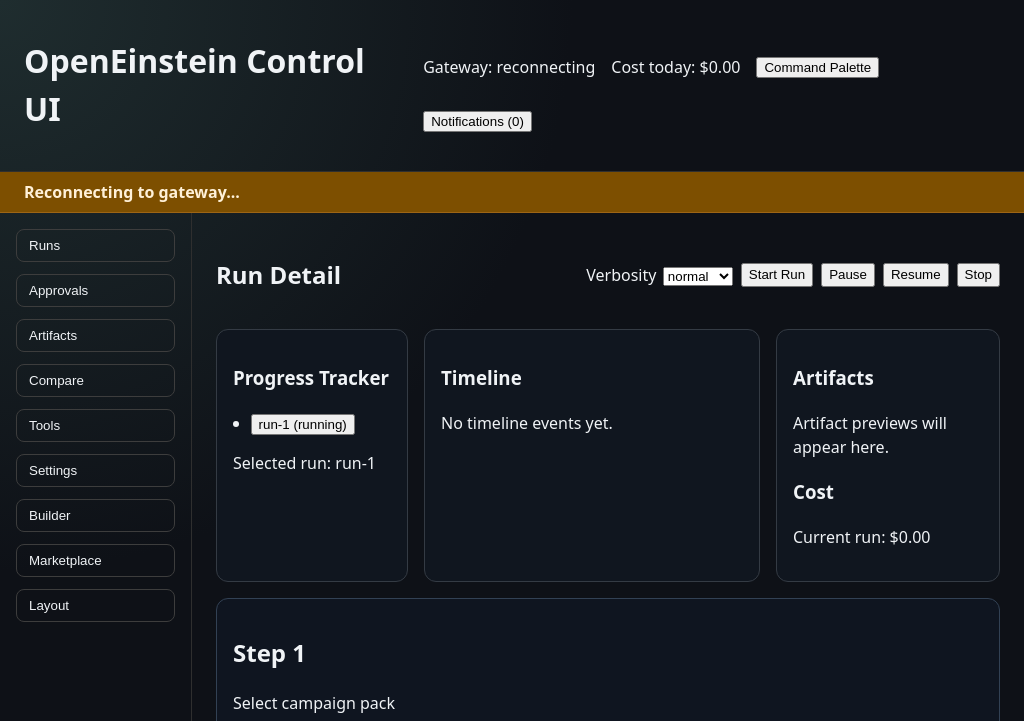
Test: App tools and settings wiring › loads tools route and executes test-connection + settings validation
Check: the heading "Run Detail" is shown, box [216, 257, 341, 293]
Step 1. Click the button "Tools" → (96, 425), box [16, 409, 175, 442]
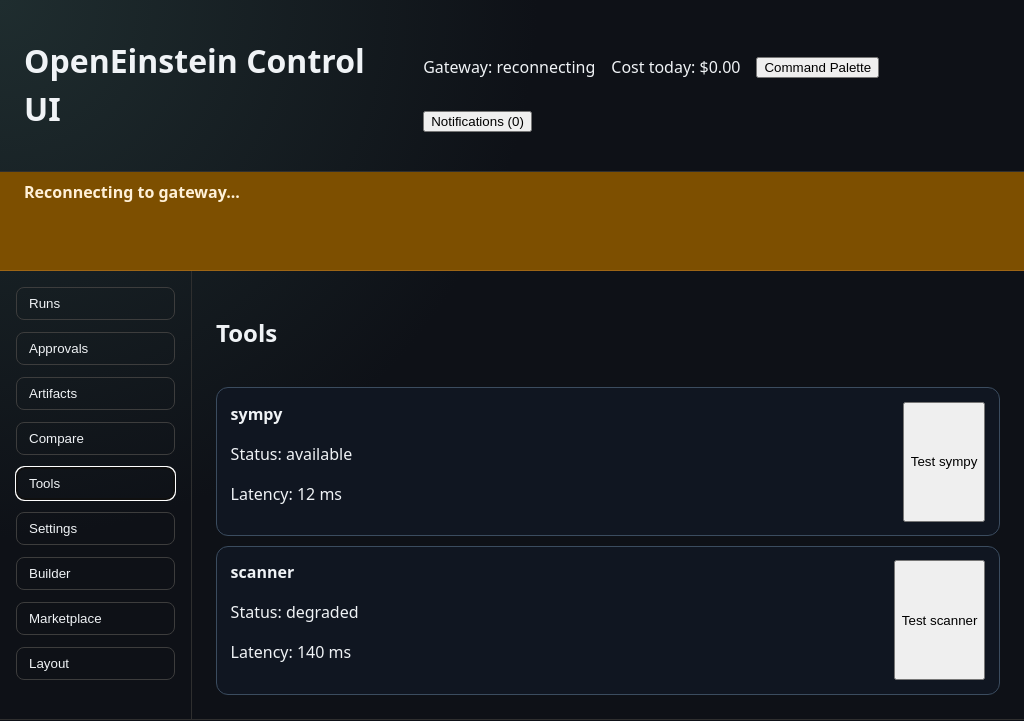
Check: the heading "Tools" is shown, box [216, 316, 277, 349]
Step 2. Click the button "Test sympy" → (944, 462), box [903, 402, 985, 522]
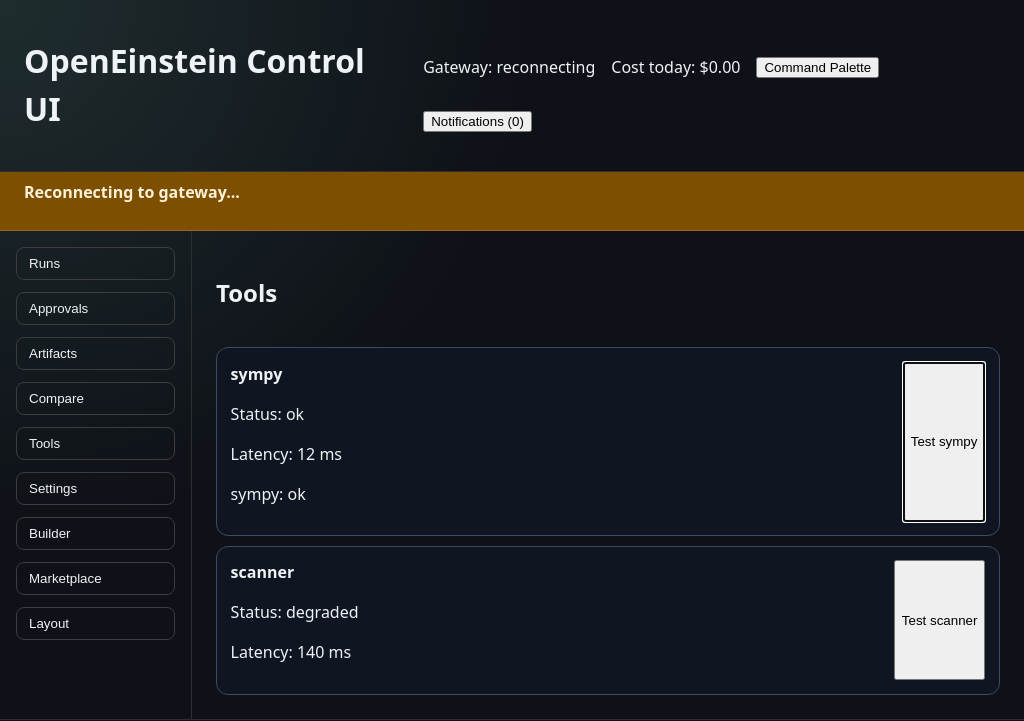
Check: the text "sympy: ok" is shown, box [231, 483, 306, 505]
Step 3. Click the button "Settings" → (96, 489), box [16, 472, 175, 505]
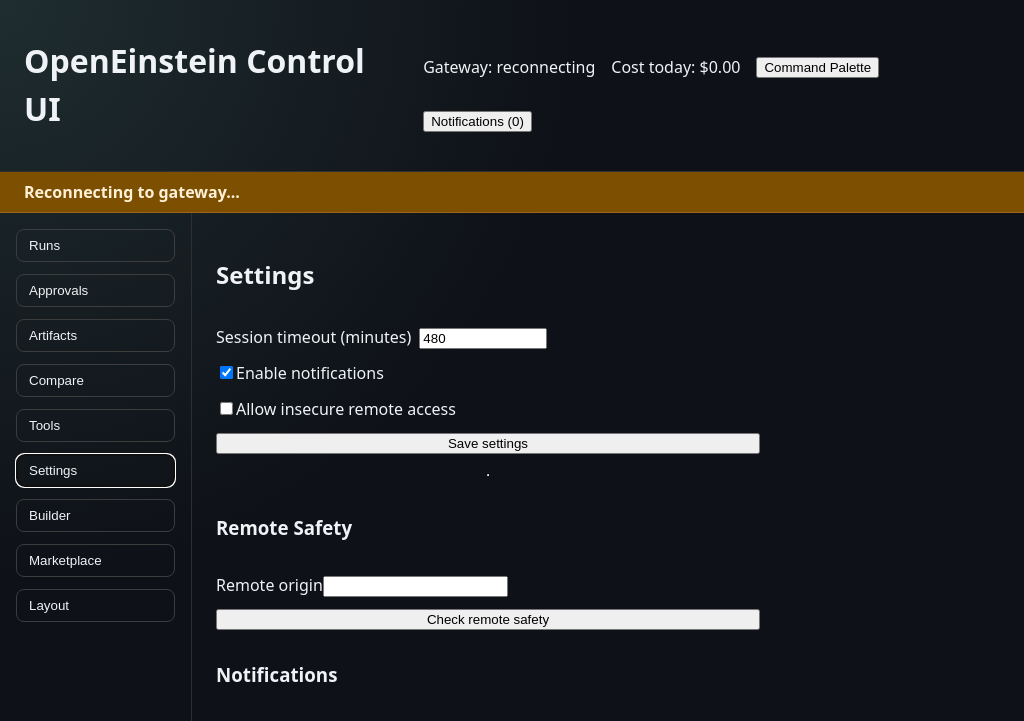
Check: the heading "Settings" is shown, box [216, 258, 314, 291]
Step 4. Click the button "Save settings" → (488, 443), box [216, 433, 760, 454]
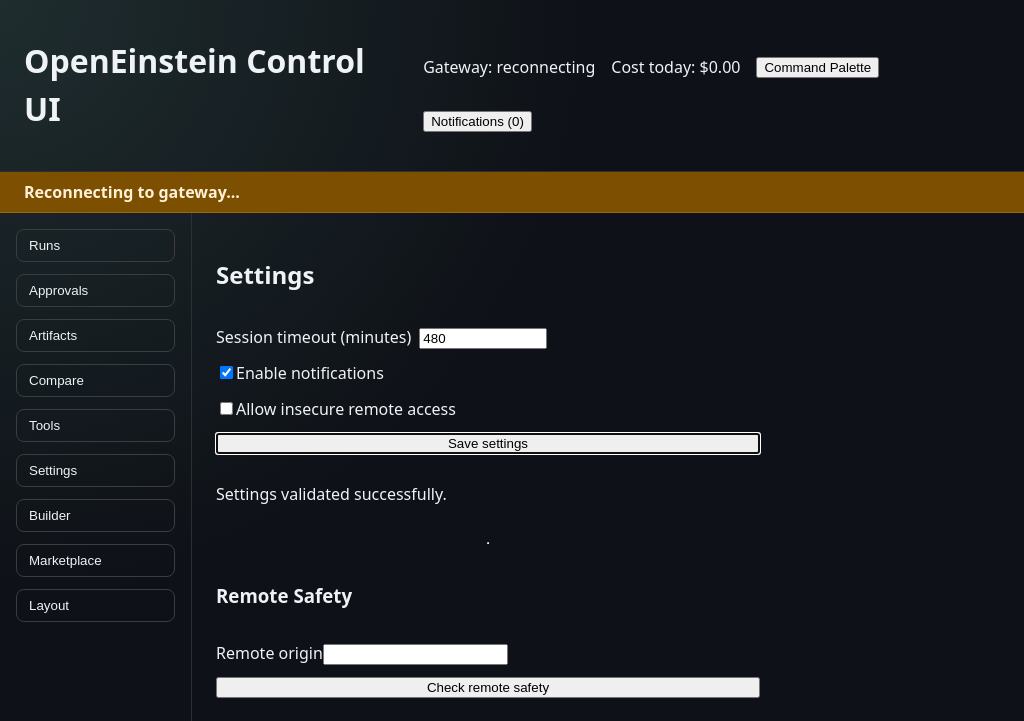
Check: the text "Settings validated successfully." is shown, box [216, 483, 447, 505]
